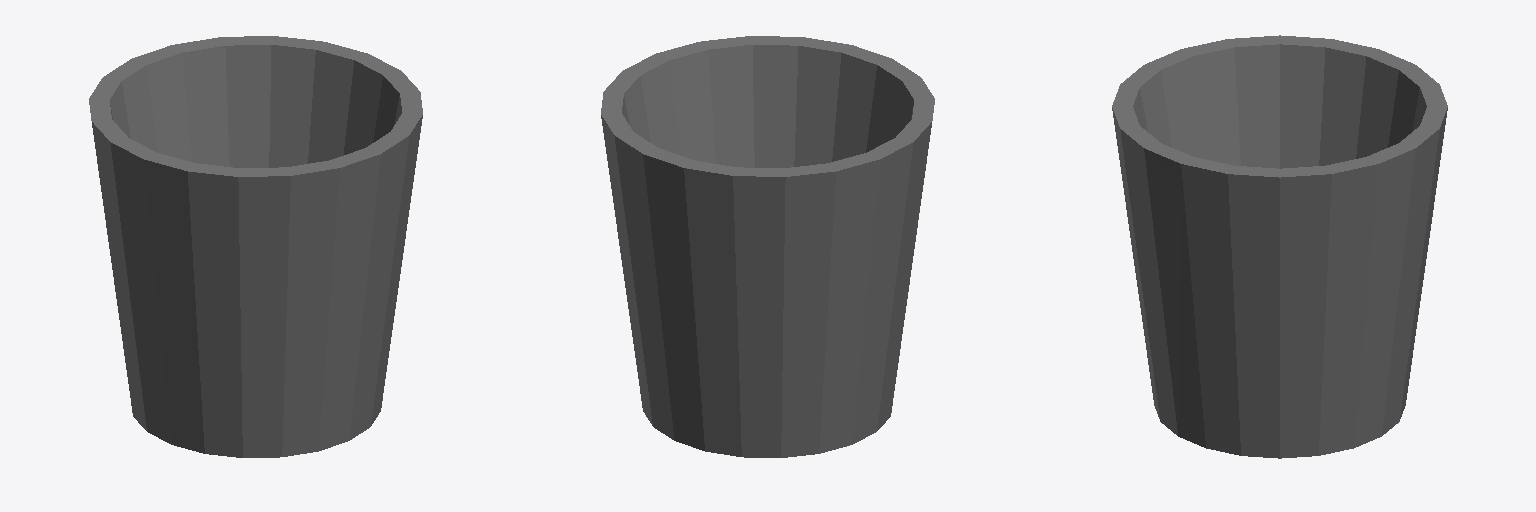
Rendered from vaso.obj.
3 views of the same model, side by side, from view 1: azimuth 30°, elevation 25°; view 2: azimuth 150°, elevation 25°; view 3: azimuth 270°, elevation 25° (orthographic).
Visible parts, largest first — view 1: pCylinder13; view 2: pCylinder13; view 3: pCylinder13.
Part boxes in pixels (x1,y1,x2,y2): pCylinder13: (89,36,422,457); pCylinder13: (601,36,934,457); pCylinder13: (1112,35,1447,458).
Bounding box in the file's own units: 2 × 1.96 × 2.